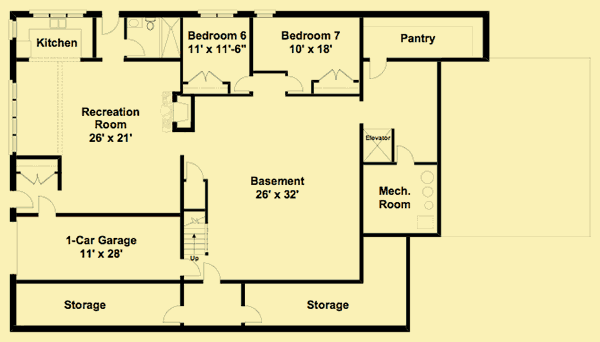door: (318, 67, 354, 85), (187, 69, 224, 86), (35, 194, 58, 217), (240, 304, 264, 326), (18, 172, 57, 185), (184, 159, 204, 183), (162, 304, 184, 325), (368, 57, 388, 80), (395, 144, 415, 167), (202, 259, 221, 283), (15, 189, 34, 210), (125, 37, 146, 56), (283, 75, 305, 93), (100, 17, 121, 35), (233, 74, 252, 93)
large_sink: (143, 16, 157, 31)
small_sink: (125, 15, 145, 31)
stairs: (182, 209, 208, 259)
window: (6, 80, 18, 156), (197, 8, 238, 20), (26, 9, 86, 17), (253, 8, 280, 18), (7, 19, 18, 42)
